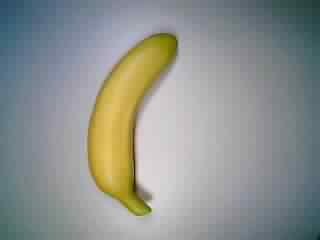banana: (79, 29, 188, 219)
